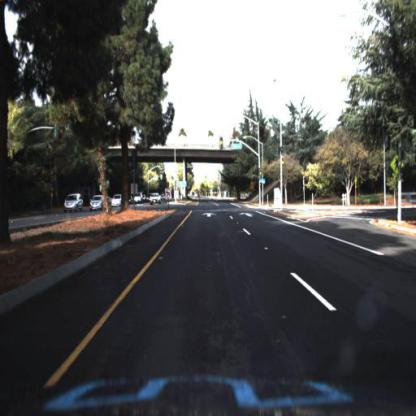car: (62, 194, 83, 216), (63, 192, 81, 212), (108, 191, 123, 214), (127, 192, 141, 208), (90, 194, 103, 210), (148, 191, 160, 205)
trafficLight: (278, 153, 288, 171)
trafficLight-Yellow: (218, 137, 224, 158), (258, 166, 264, 181), (280, 152, 284, 168)
